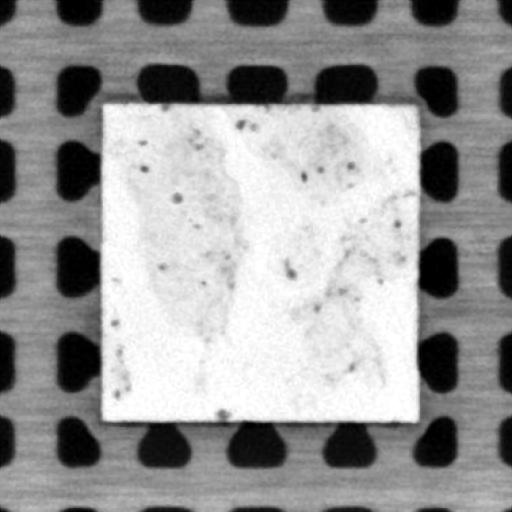DIE_INK: (103, 105, 413, 419)
